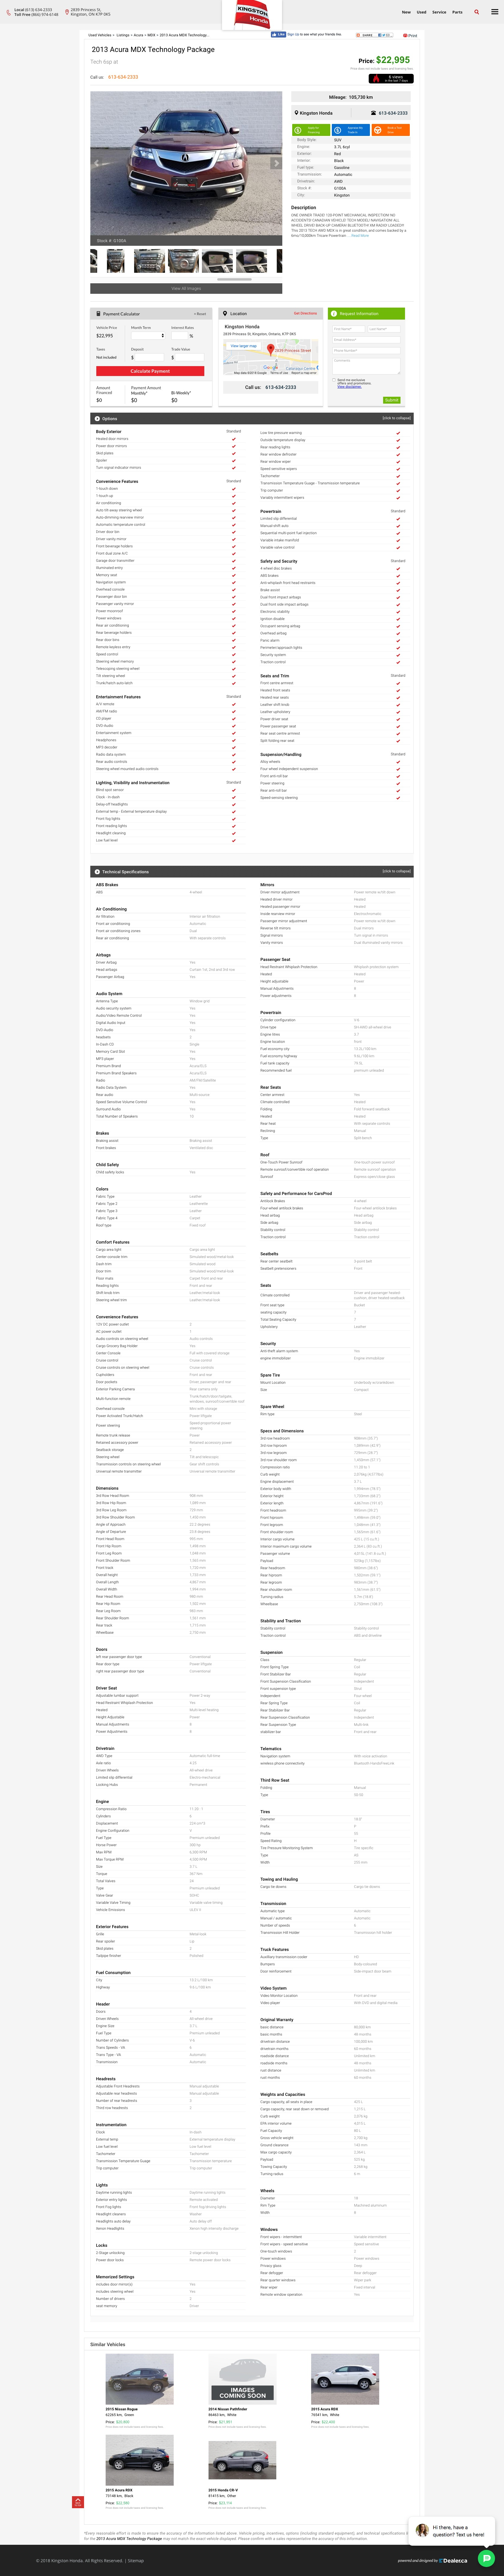car: (274, 159, 279, 168)
